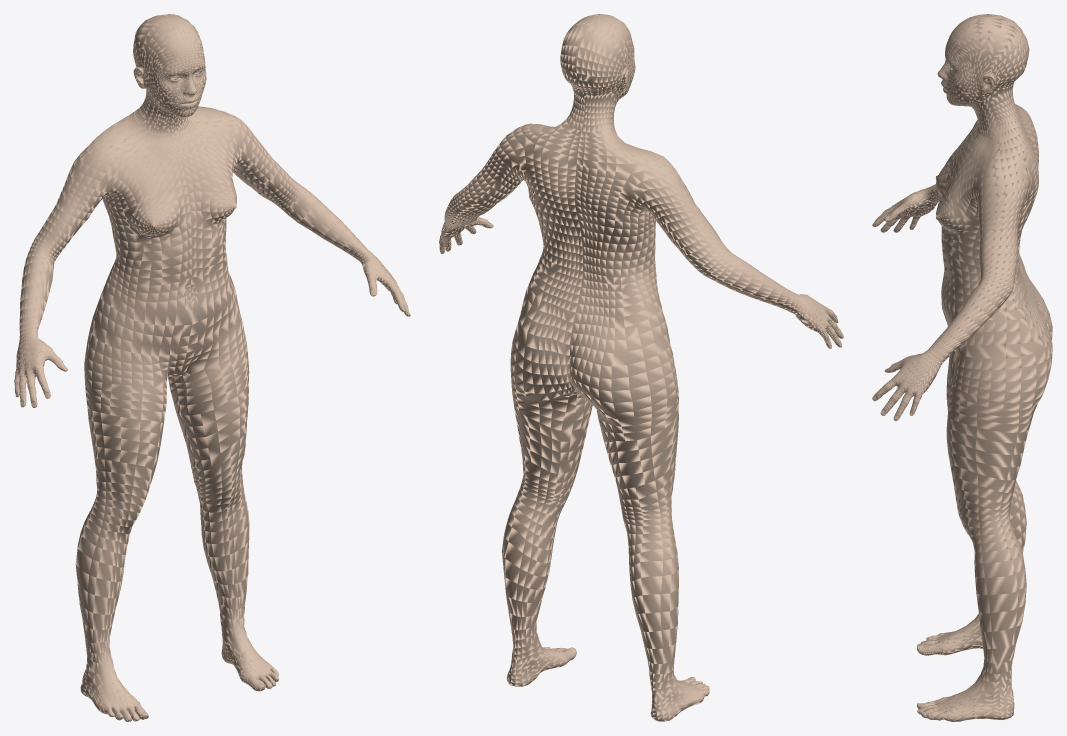
Rendered from female_medium_low.glb.
3 renders of one model, left to right at view 1: azimuth 30°, elevation 25°; view 2: azimuth 150°, elevation 25°; view 3: azimuth 270°, elevation 25°, orthographic. The views are drawn at different scales.
Visible parts, largest first — view 1: female_medium_lowMesh; view 2: female_medium_lowMesh; view 3: female_medium_lowMesh.
Part boxes in pixels (x1,y1,x2,y2): female_medium_lowMesh: (14, 14, 410, 721); female_medium_lowMesh: (439, 14, 843, 721); female_medium_lowMesh: (872, 14, 1052, 721).
Bounding box in the file's own units: 9.81 × 16.06 × 3.95.
